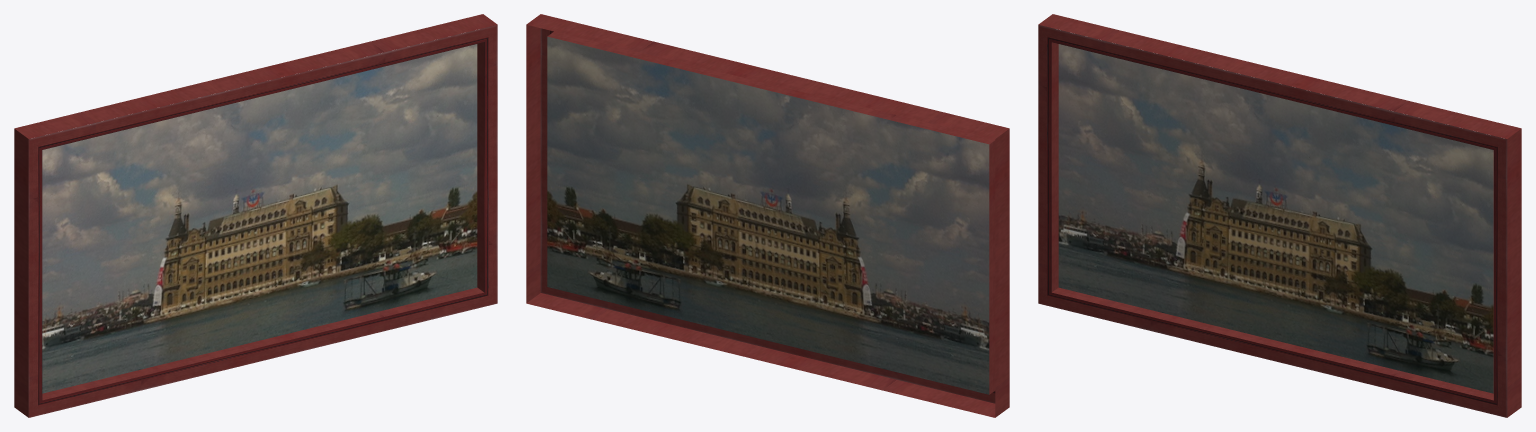
File: Paint01.fbx
3 renders of one model, left to right at view 1: azimuth 30°, elevation 25°; view 2: azimuth 150°, elevation 25°; view 3: azimuth 330°, elevation 25°, orthographic.
Visible parts, largest first — view 1: Mesh; view 2: Mesh; view 3: Mesh.
Part boxes in pixels (x1=…): Mesh: x1=14, y1=14, x2=497, y2=417; Mesh: x1=526, y1=14, x2=1009, y2=417; Mesh: x1=1038, y1=14, x2=1521, y2=417.
Bounding box in the file's own units: 176 × 100 × 9.5.
